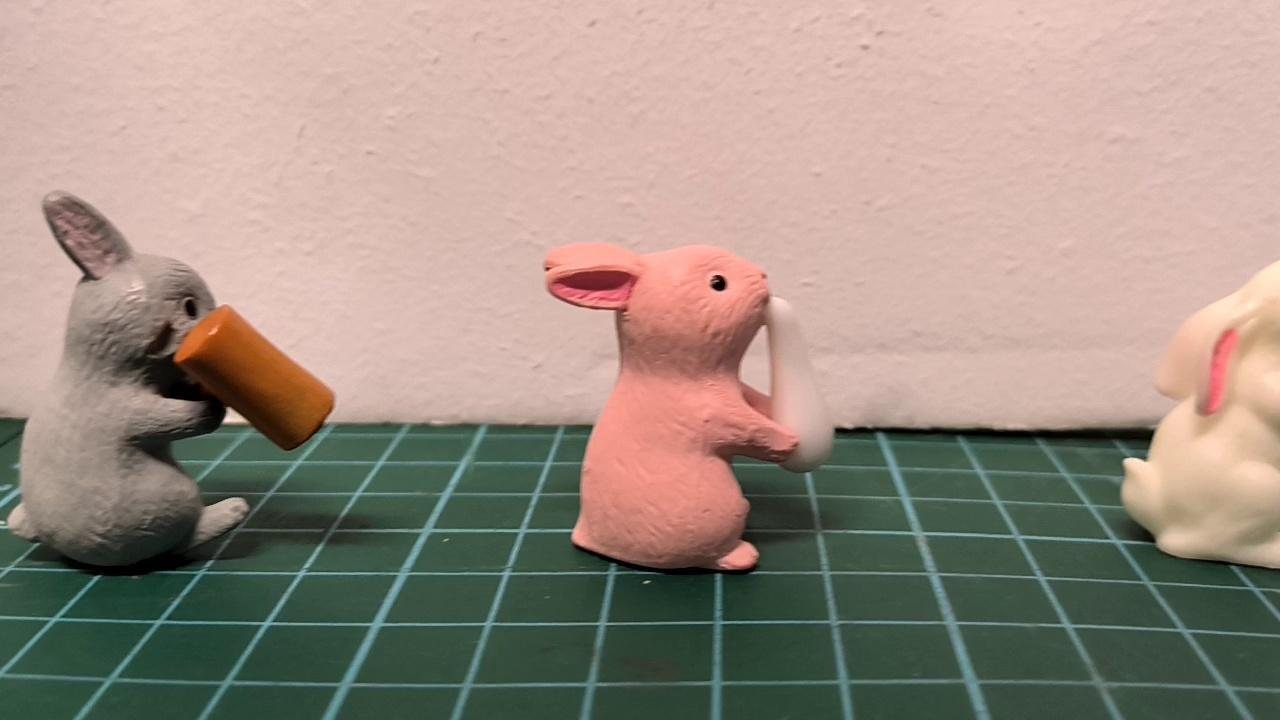pet: (9, 191, 252, 570), (543, 241, 799, 576), (1124, 260, 1280, 573)
